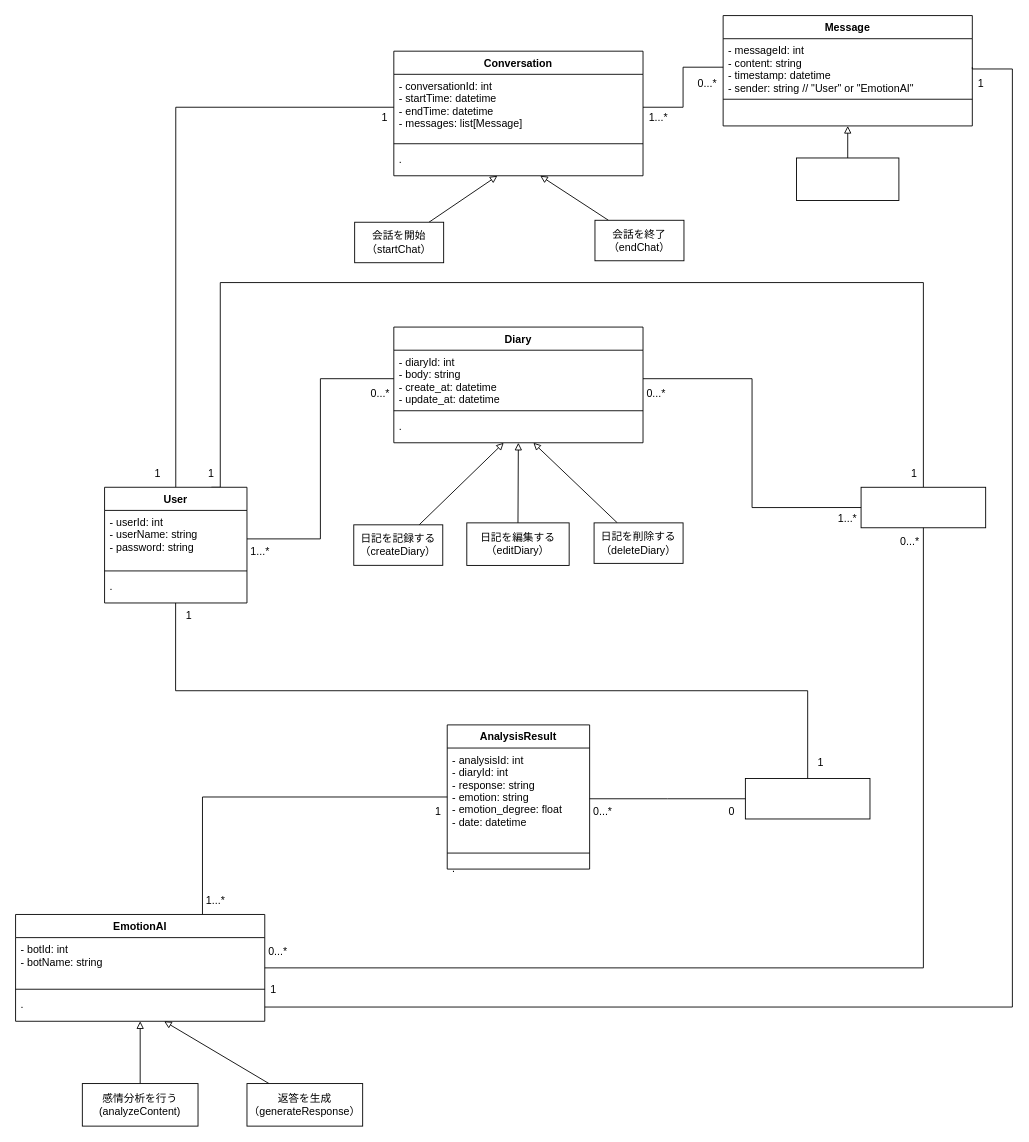
Some shapes in this 1029 by 1142 pixel diagram are drawn without their labels. The centre of each missing label's shape, as x and y in pixels:
"会話を続ける （addMessage）" belongs at (847,179).
"感情分析結果を見る （viewAnalysis）" belongs at (807,798).
"日記一覧 （ViewDiaries）" belongs at (923,507).
